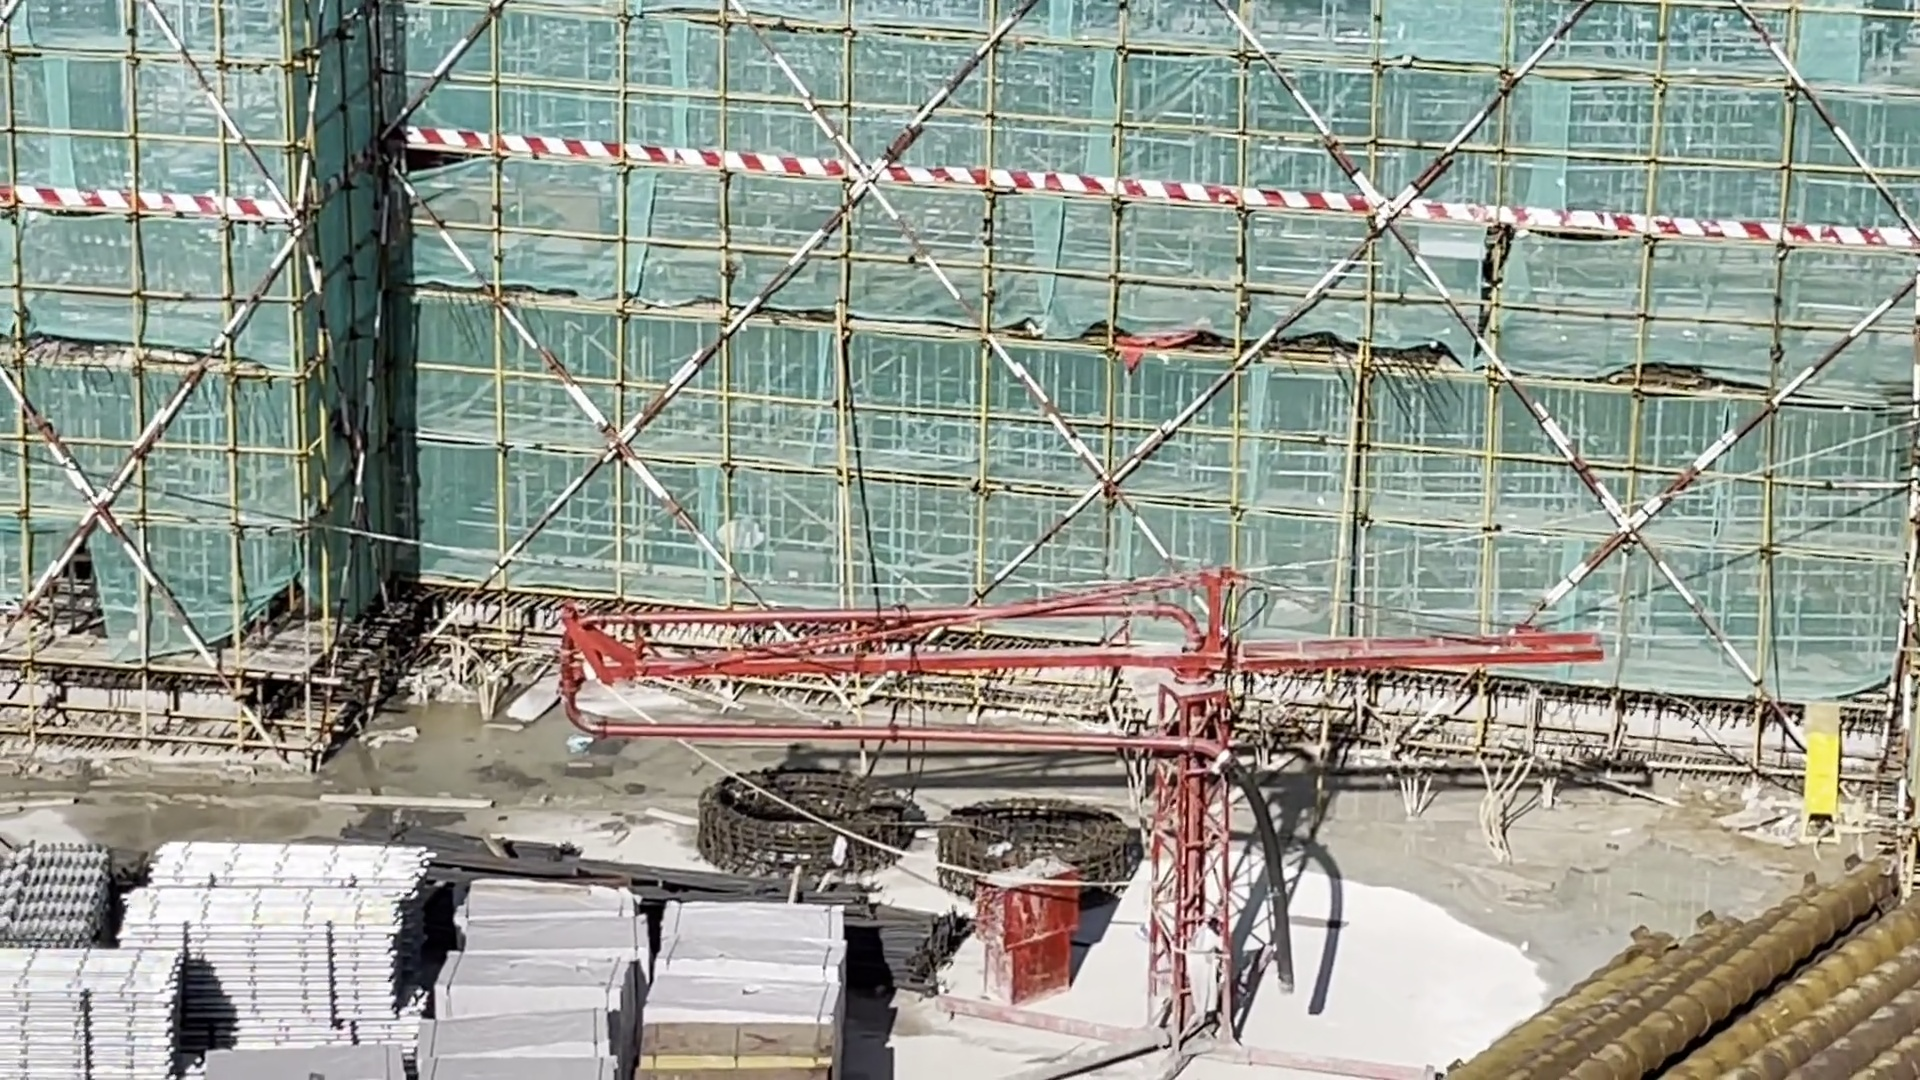board: (644, 1025, 819, 1080)
ebox: (1789, 699, 1841, 814)
rebar: (1436, 886, 1920, 1071), (413, 832, 779, 901), (864, 905, 956, 1001)
scaffold: (158, 847, 398, 1015), (29, 952, 193, 1080), (21, 855, 123, 942)
